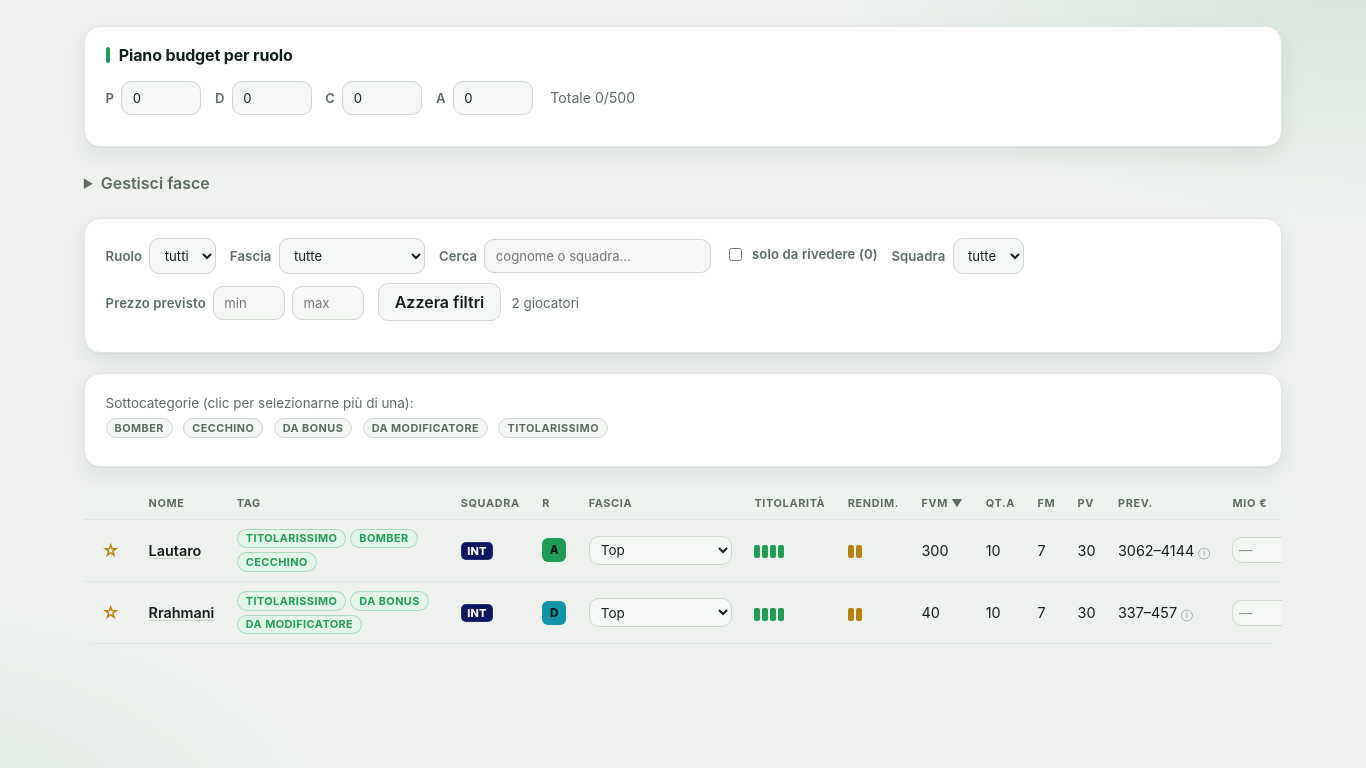
Test case: StudioTab › tag di ruoli diversi -> O (unione)
The image size is (1366, 768).
Click the button with aria-label "tag Bomber" at [139, 428], box [106,418,173,438]
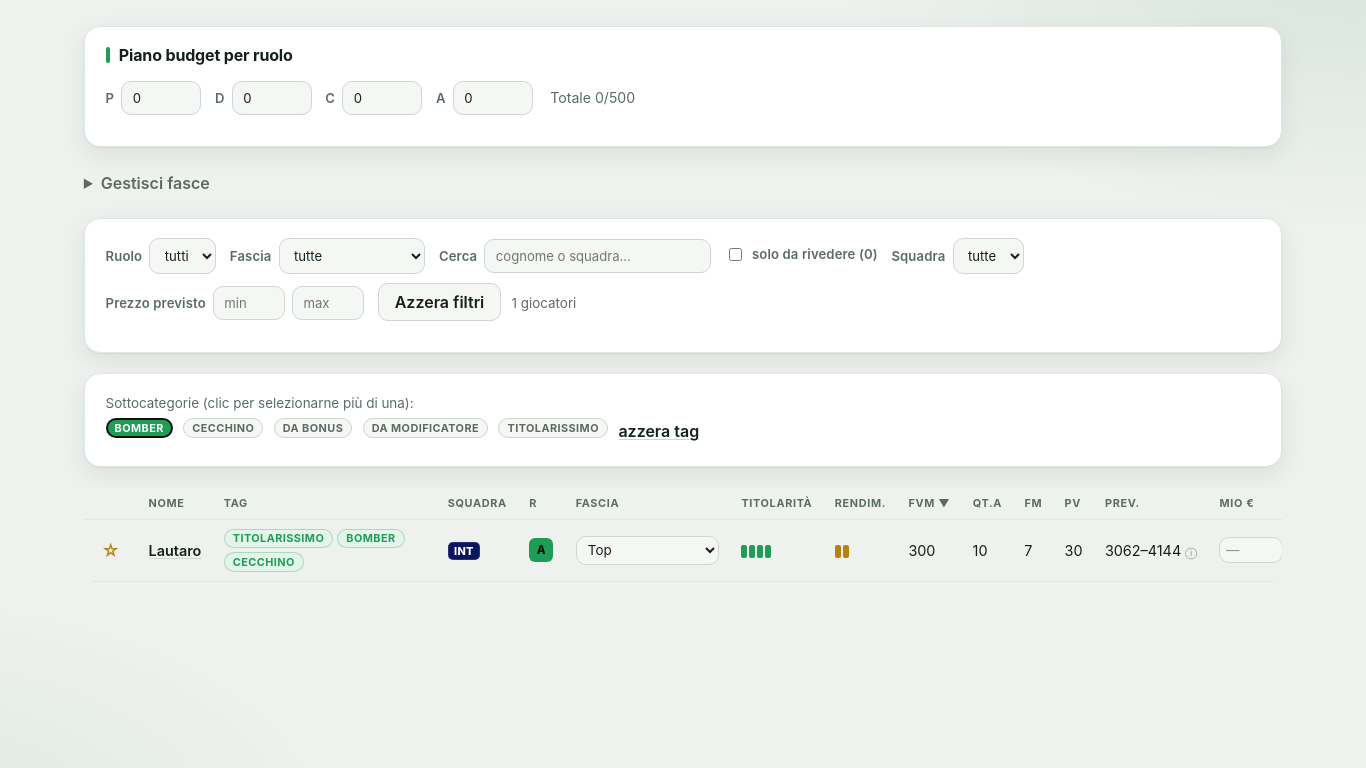
Check: the button "Lautaro" is shown, box [148,542,201,559]
Check: the button "Rrahmani" is gone
Click the button with aria-label "tag Da bonus" at [313, 428], box [274,418,352,438]
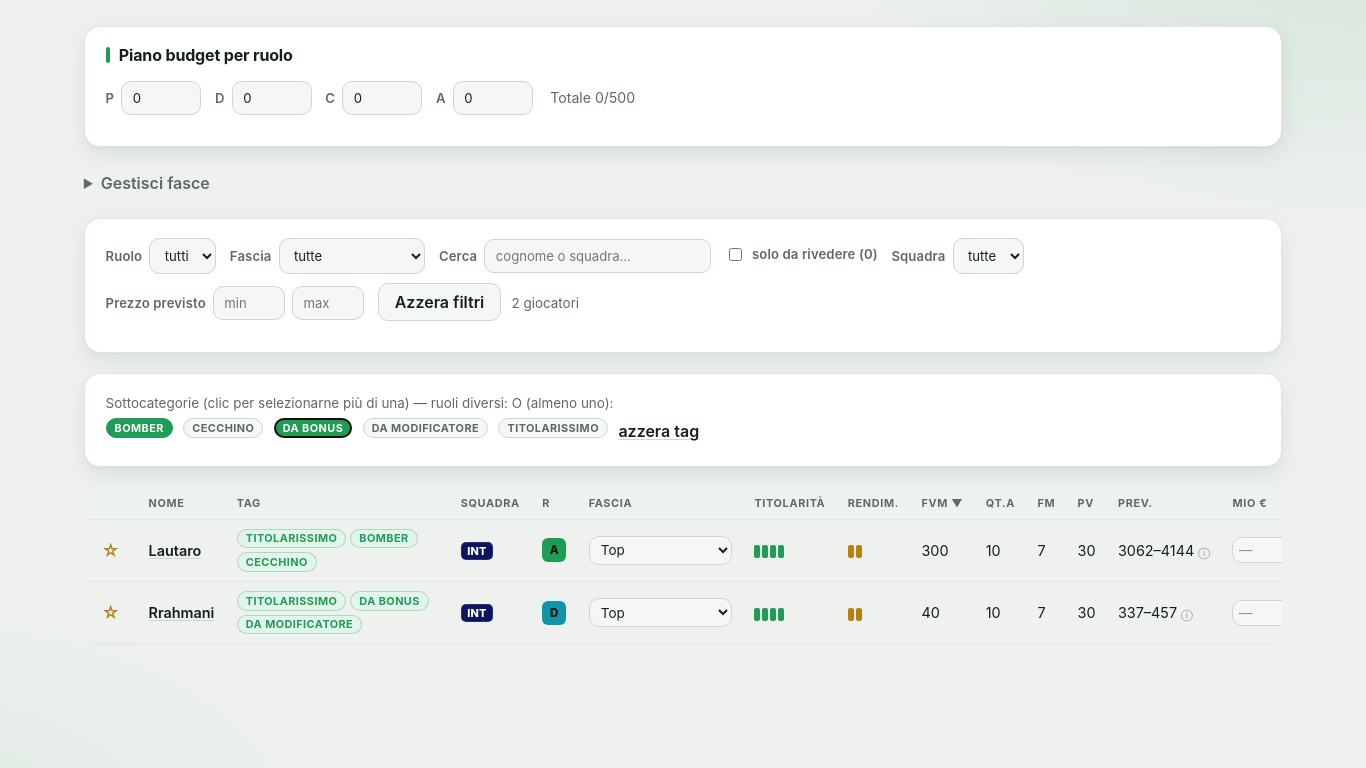
Check: the button "Rrahmani" is shown, box [148,604,214,621]
